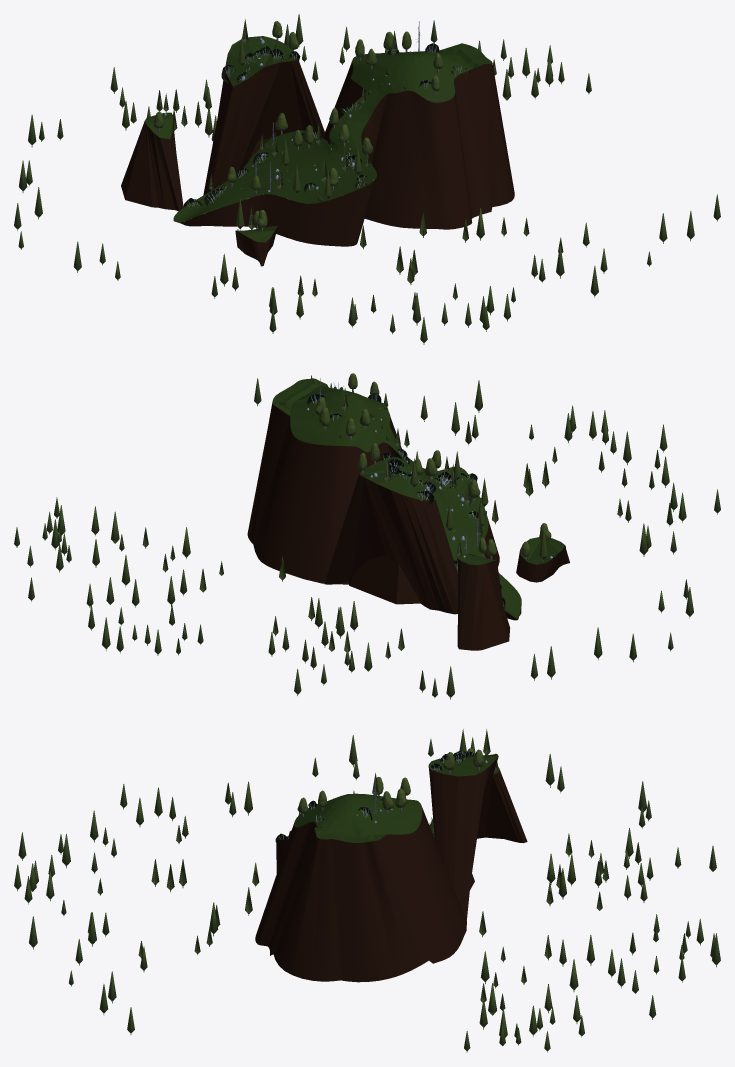
Rendered from stylized winter level 3_colored.fbx.
The picture shows the model from 3 angles, top to bottom: view 1: azimuth 30°, elevation 25°; view 2: azimuth 150°, elevation 25°; view 3: azimuth 270°, elevation 25°; orthographic projection. The views are drawn at different scales.
Visible parts, largest first — view 1: MountainBased.001, upper, GroundTrees, Trees.001; view 2: MountainBased.001, GroundTrees, upper, Trees.001; view 3: MountainBased.001, GroundTrees, upper, Trees.001.
Boxes of the visible parts, x1,y1,x2,y2 form: MountainBased.001: (121,36,514,266); upper: (173,43,492,222); GroundTrees: (14,14,720,344); Trees.001: (154,19,467,230); MountainBased.001: (247,379,569,650); GroundTrees: (14,375,720,699); upper: (272,378,521,618); Trees.001: (306,373,552,608); MountainBased.001: (255,754,527,982); GroundTrees: (14,735,720,1052); upper: (282,793,422,842); Trees.001: (275,729,498,842).
Bounding box in the file's own units: 9888 × 2644 × 9931.
